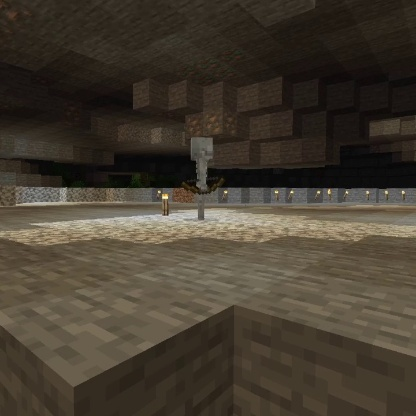skeleton: (178, 132, 228, 222)
